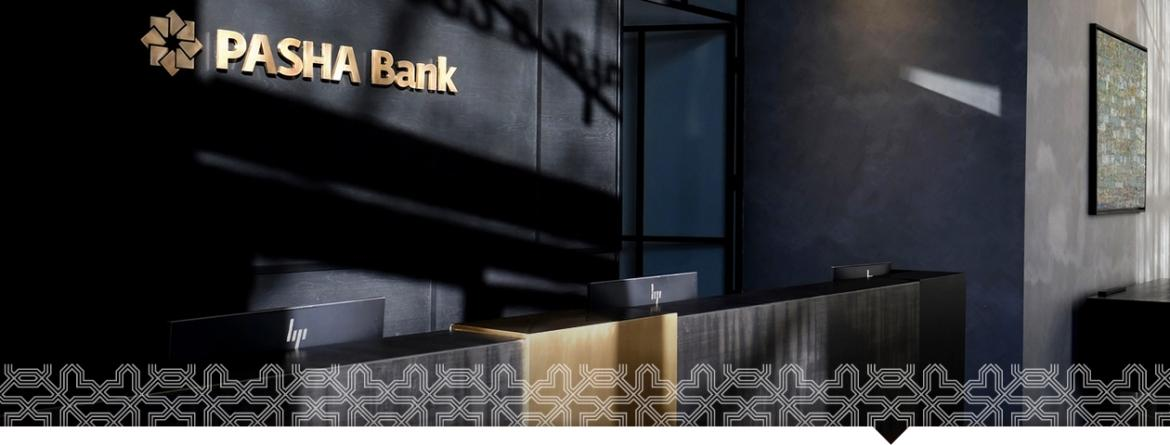Pasha Bank: (138, 2, 204, 81)
